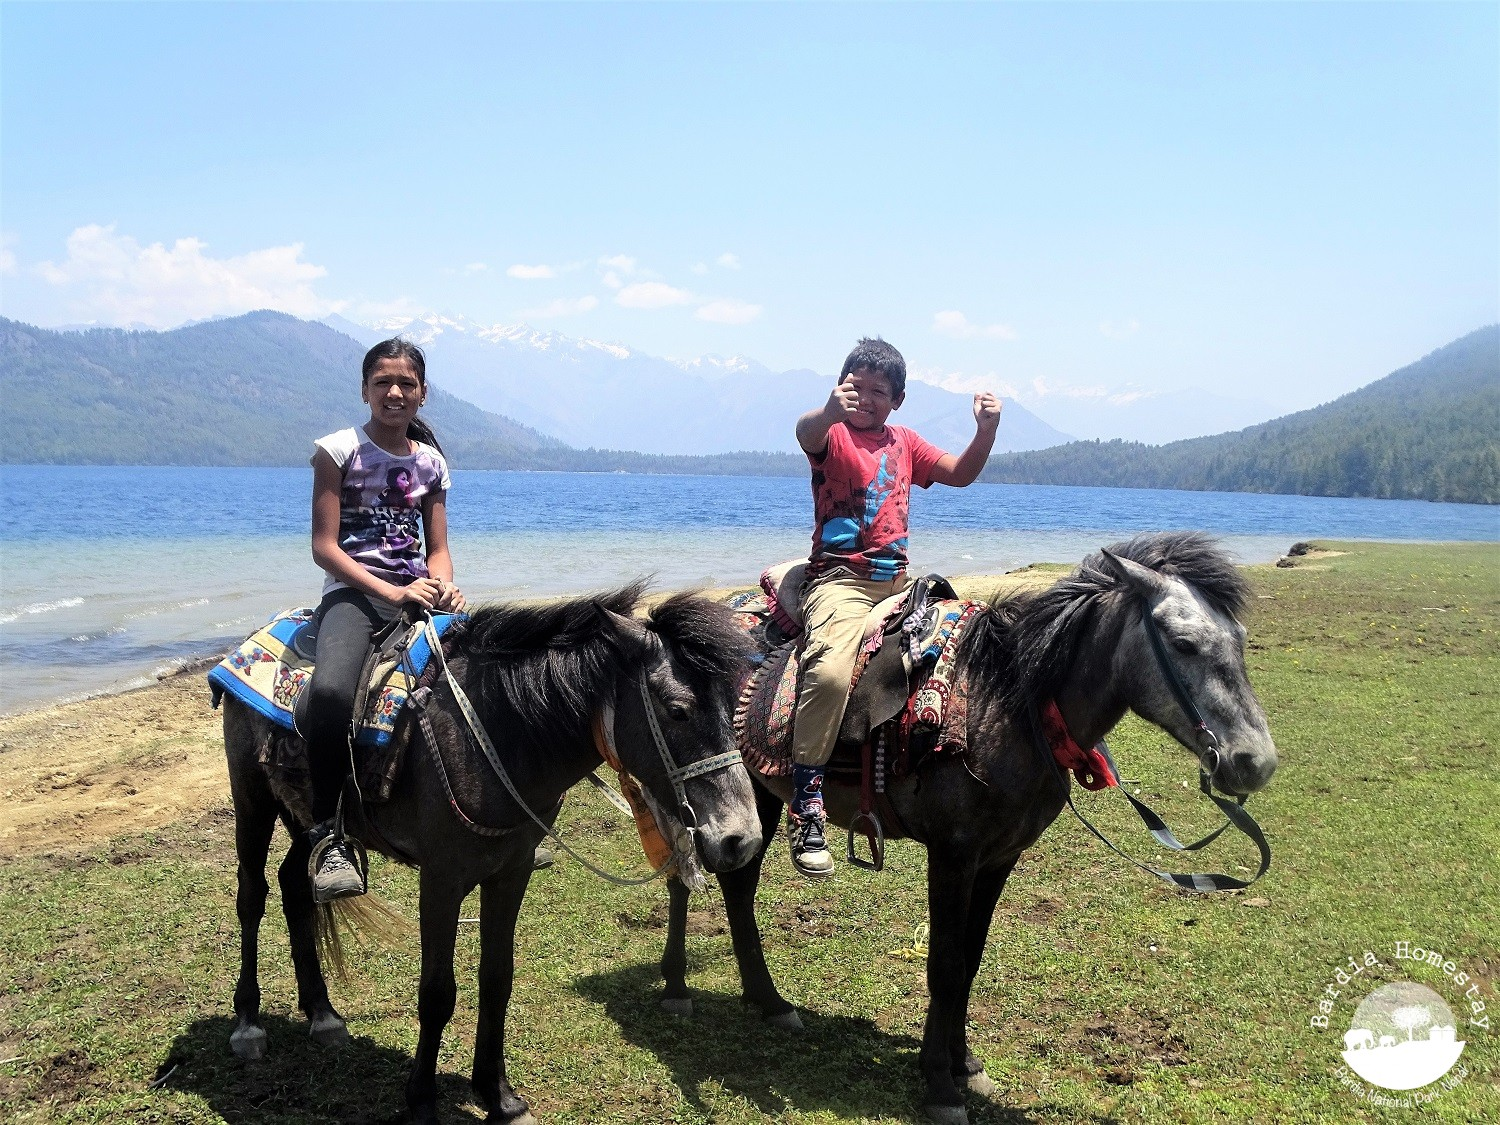human: (773, 331, 1019, 902), (289, 322, 518, 927)
